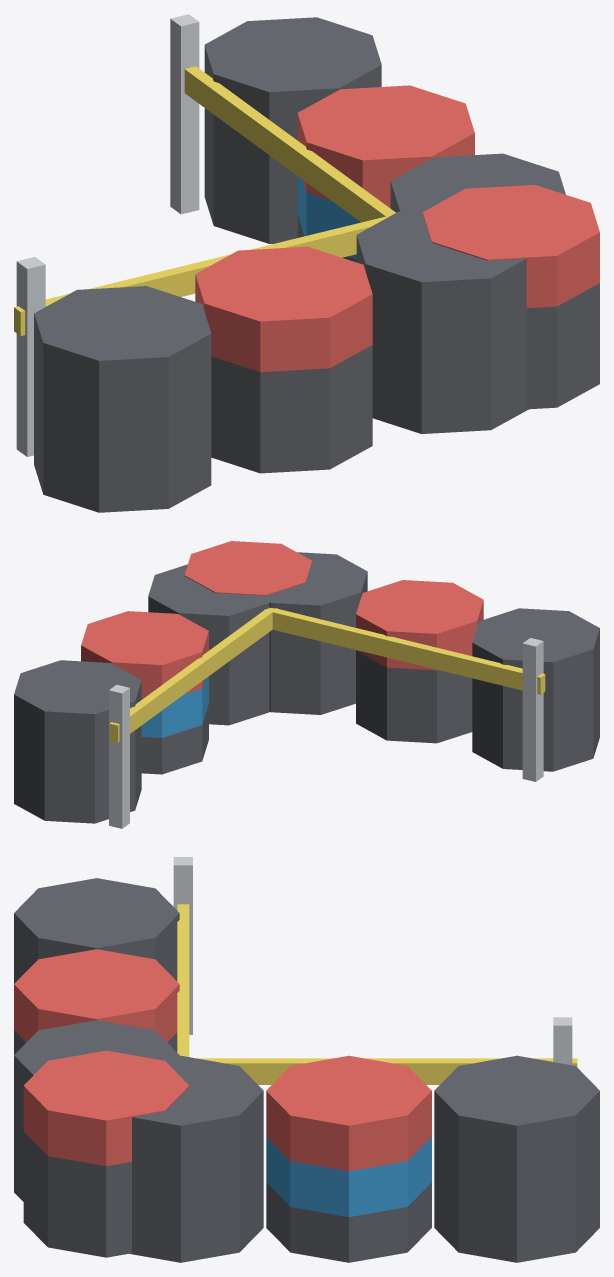
The model's file is go-kart-track-and-pit-lane-tyre-wall-barrier-corner-2f8df43e__34338.glb.
3 renders of one model, top to bottom at view 1: azimuth 30°, elevation 25°; view 2: azimuth 150°, elevation 25°; view 3: azimuth 270°, elevation 25°, orthographic. The views are drawn at different scales.
Parts seen in each view (by area): view 1: tyre-wall-barrier-corner-charcoal, tyre-wall-barrier-corner-red, tyre-wall-barrier-corner-canary, tyre-wall-barrier-corner-steel, tyre-wall-barrier-corner-azure; view 2: tyre-wall-barrier-corner-charcoal, tyre-wall-barrier-corner-red, tyre-wall-barrier-corner-canary, tyre-wall-barrier-corner-steel, tyre-wall-barrier-corner-azure; view 3: tyre-wall-barrier-corner-charcoal, tyre-wall-barrier-corner-red, tyre-wall-barrier-corner-azure, tyre-wall-barrier-corner-canary, tyre-wall-barrier-corner-steel.
Part boxes in pixels (x1,y1,x2,y2): tyre-wall-barrier-corner-charcoal: (34, 17, 599, 512); tyre-wall-barrier-corner-red: (195, 85, 599, 372); tyre-wall-barrier-corner-canary: (14, 66, 395, 335); tyre-wall-barrier-corner-steel: (16, 14, 199, 456); tyre-wall-barrier-corner-azure: (297, 176, 360, 259); tyre-wall-barrier-corner-charcoal: (14, 552, 599, 823); tyre-wall-barrier-corner-red: (81, 541, 483, 699); tyre-wall-barrier-corner-canary: (109, 607, 545, 742); tyre-wall-barrier-corner-steel: (109, 638, 543, 828); tyre-wall-barrier-corner-azure: (141, 676, 208, 737); tyre-wall-barrier-corner-charcoal: (14, 878, 599, 1262); tyre-wall-barrier-corner-red: (14, 949, 431, 1171); tyre-wall-barrier-corner-azure: (266, 1136, 431, 1216); tyre-wall-barrier-corner-canary: (177, 904, 577, 1084); tyre-wall-barrier-corner-steel: (173, 857, 572, 1065).
Size of the model in its own units: 2.44 by 0.78 by 2.44.
